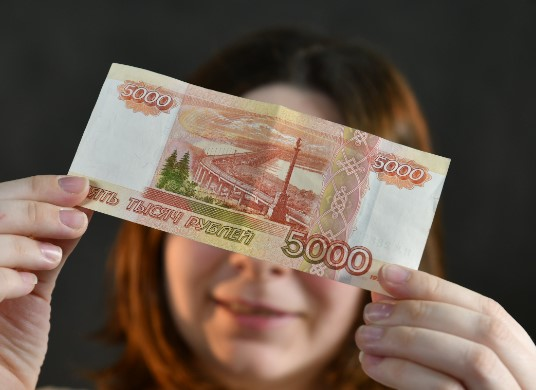cash: (63, 63, 451, 298)
